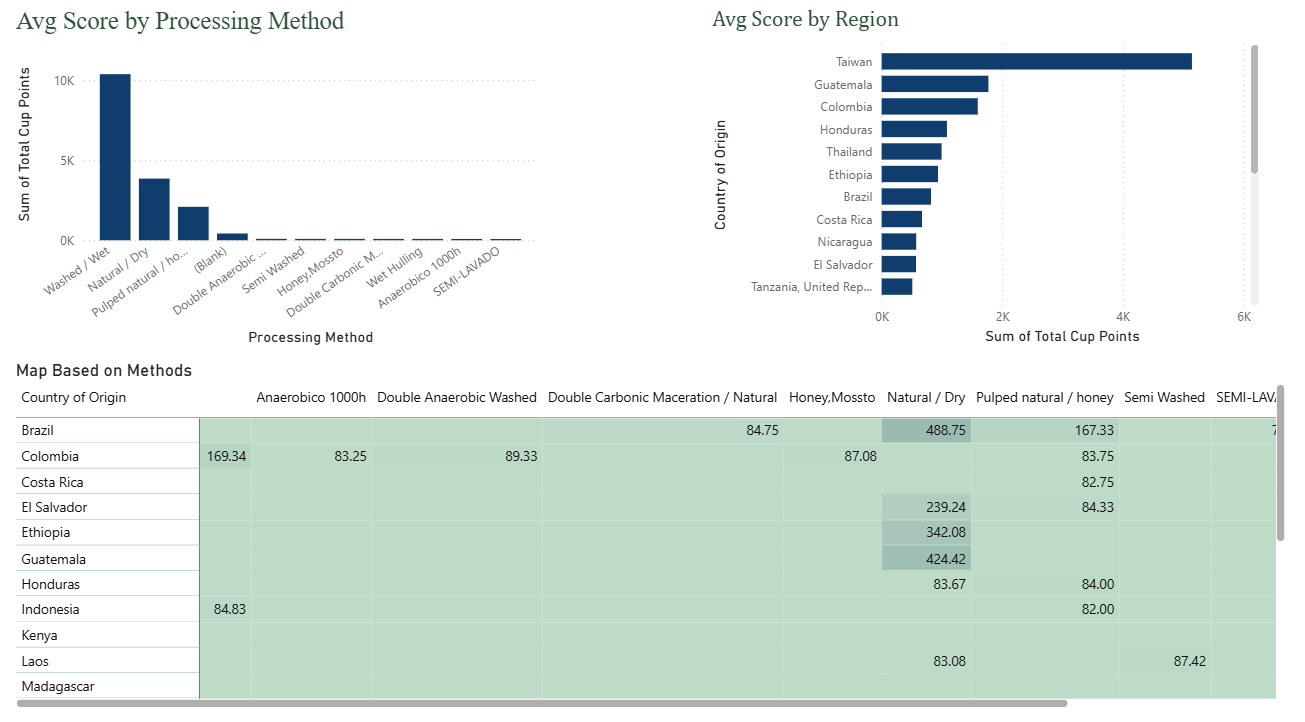

The page's visual inventory and layout, read from the dashboard file:
{"tool":"powerbi","page":{"name":"Avg_Score Region &Methods","canvas":[1280,720],"ordinal":2},"visuals":[{"type":"columnChart","title":"Avg Score by Processing Method","fields":{"Category":["z color.Processing Method"],"Y":["Sum(z color.Total Cup Points)"]},"box":[15.1,15.1,520.1,336.2],"z":0},{"type":"barChart","title":"Avg Score by Region","fields":{"Category":["z color.Country of Origin"],"Y":["Sum(z color.Total Cup Points)"]},"box":[695.7,13.7,544.8,336.2],"z":1000},{"type":"pivotTable","title":"Map Based on Methods","fields":{"Rows":["z color.Country of Origin"],"Values":["Sum(z color.Total Cup Points)"],"Columns":["z color.Processing Method"]},"box":[15.1,359.5,1251.5,345.8],"z":2000}]}

Visuals, with their boxes in screenshot pixels (x1, y1, x2, y2), scaled from the page's 1280x720 canvas onto the 1305x722 screenshot:
"Avg Score by Processing Method" columnChart: 15 15 546 352
"Avg Score by Region" barChart: 709 14 1265 351
"Map Based on Methods" pivotTable: 15 360 1291 707
